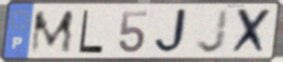5: (118, 10, 151, 54)
J: (153, 7, 193, 56), (195, 8, 231, 55)
L: (77, 8, 105, 55)
M: (29, 8, 77, 55)
X: (229, 7, 274, 56)
